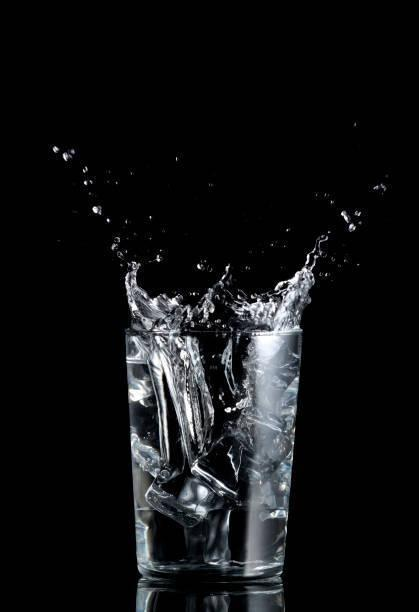glass-normal: (121, 318, 306, 581)
